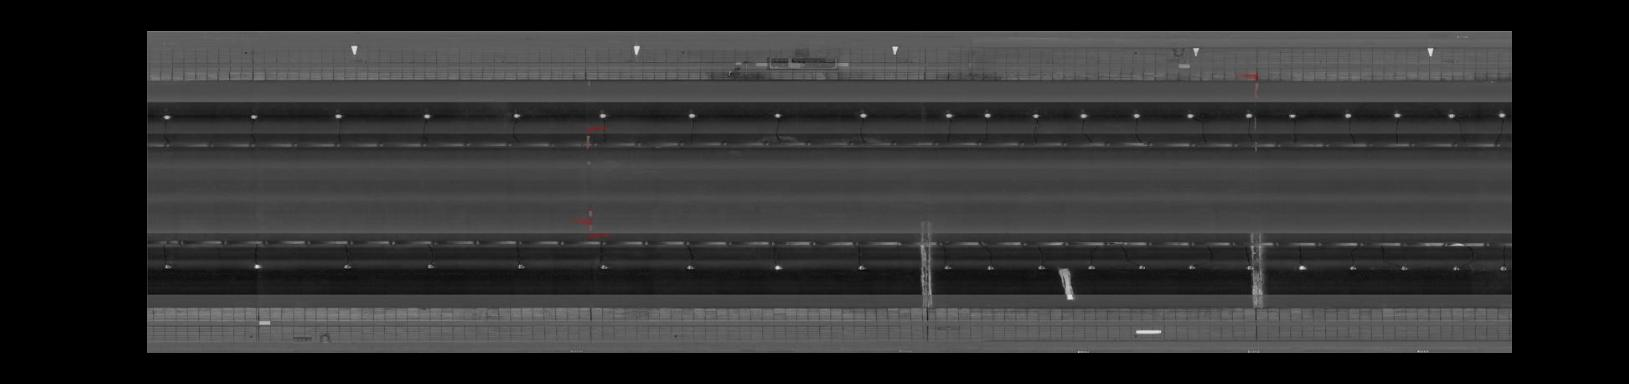light: (851, 109, 873, 121), (767, 260, 787, 273), (338, 260, 356, 273), (680, 260, 699, 273), (594, 109, 612, 121), (418, 110, 435, 122), (770, 109, 787, 121), (159, 259, 176, 272), (684, 109, 700, 121), (512, 260, 530, 272), (1495, 260, 1508, 275), (249, 259, 265, 272), (1133, 260, 1149, 273), (1181, 109, 1198, 120), (422, 260, 439, 271), (852, 263, 870, 273), (509, 109, 524, 121), (1449, 260, 1464, 273), (1294, 260, 1310, 272), (1340, 109, 1356, 120), (1075, 109, 1091, 120), (330, 111, 347, 121), (1388, 109, 1405, 119), (1494, 109, 1508, 120), (1443, 109, 1458, 120), (243, 112, 261, 121), (158, 112, 173, 122), (596, 263, 612, 273), (941, 109, 957, 119), (979, 110, 994, 120), (1083, 263, 1099, 272), (1036, 262, 1049, 273), (1029, 109, 1042, 120), (982, 263, 996, 273), (1346, 262, 1361, 272), (940, 263, 954, 273), (1184, 263, 1198, 273), (1241, 109, 1255, 119), (1129, 110, 1143, 120), (1398, 263, 1411, 273), (1286, 110, 1299, 120), (1241, 263, 1254, 272)
